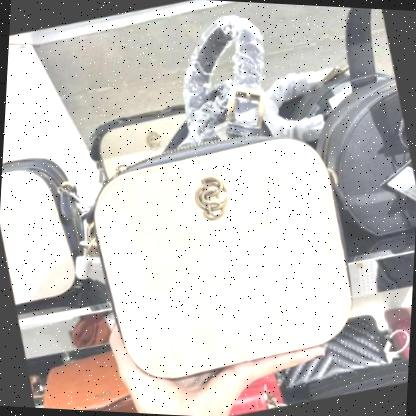bag: (83, 57, 374, 388)
